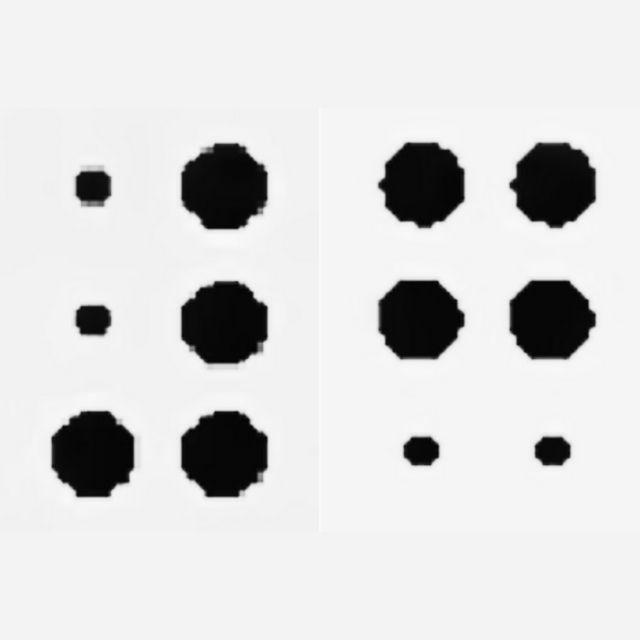7: (378, 143, 595, 501)
number: (53, 140, 267, 498)
